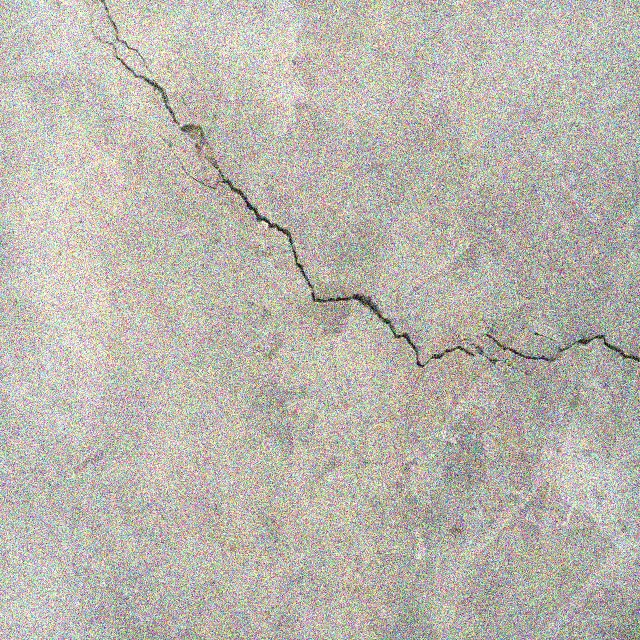SurfaceCrack: (39, 0, 639, 409)
